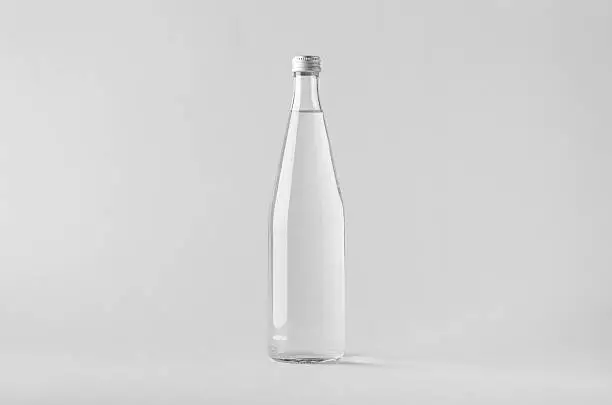glass_bottle: (254, 42, 364, 373)
